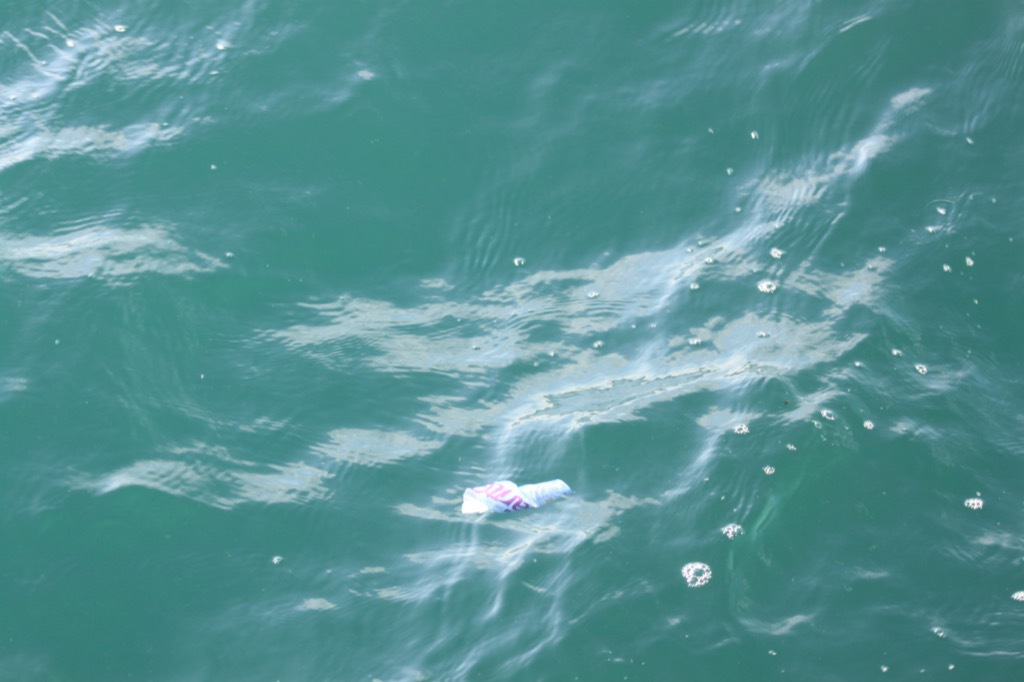plastic: (449, 468, 588, 529)
